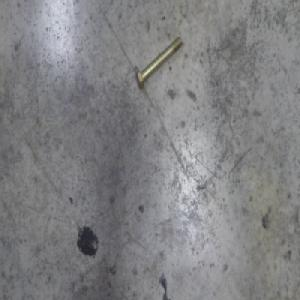Bolt: (133, 36, 183, 91)
